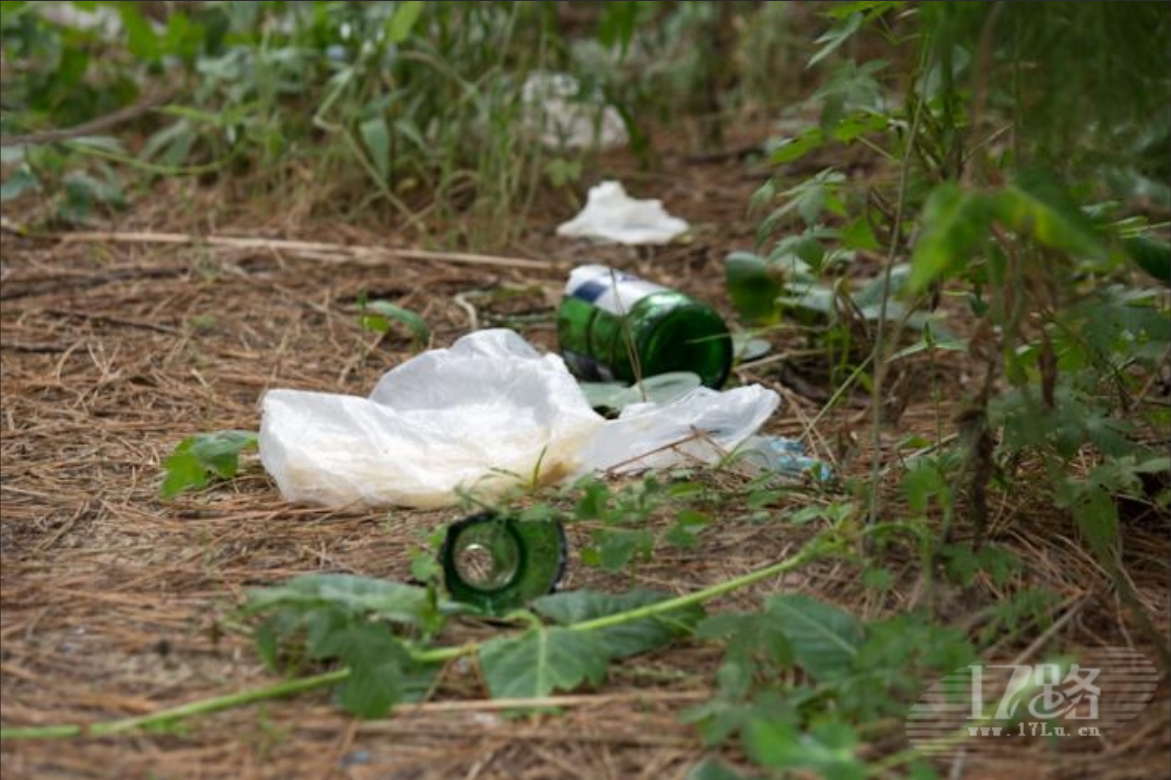garbage: (244, 322, 873, 537), (537, 237, 739, 402), (425, 489, 602, 622)
